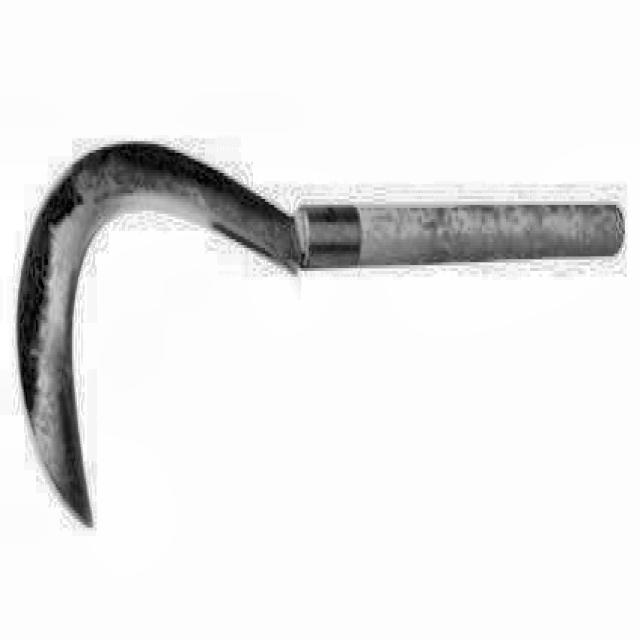celurit: (11, 126, 631, 534)
